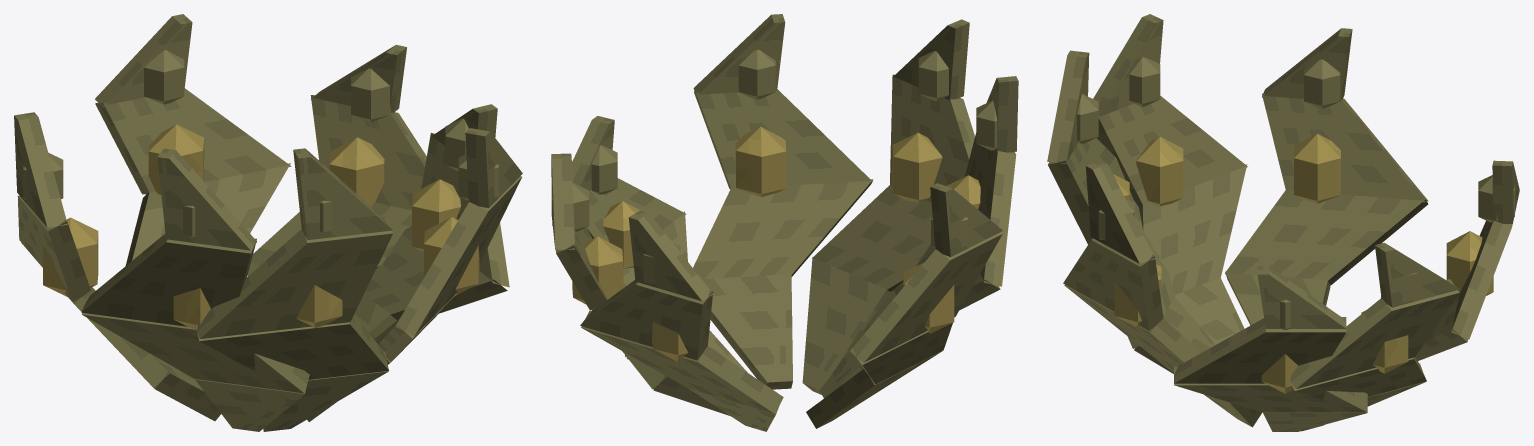
The model's file is f_bladderwrack.glb.
The picture shows the model from 3 angles, left to right: view 1: azimuth 30°, elevation 25°; view 2: azimuth 150°, elevation 25°; view 3: azimuth 270°, elevation 25°; orthographic projection. The views are drawn at different scales.
Visible parts, largest first — view 1: block_wavy-leaflike-frond (×25), block_air-bladder (×7), block_air-bladder-tip (×5); view 2: block_wavy-leaflike-frond (×27), block_air-bladder (×7), block_air-bladder-tip (×5); view 3: block_wavy-leaflike-frond (×26), block_air-bladder (×6), block_air-bladder-tip (×5).
Part boxes in pixels (x1,y1,x2,y2): block_wavy-leaflike-frond (×25): [14, 14, 522, 431]; block_air-bladder (×7): [43, 124, 479, 329]; block_air-bladder-tip (×5): [23, 50, 498, 200]; block_wavy-leaflike-frond (×27): [551, 14, 1018, 431]; block_air-bladder (×7): [572, 126, 980, 361]; block_air-bladder-tip (×5): [552, 49, 997, 231]; block_wavy-leaflike-frond (×26): [1047, 14, 1519, 431]; block_air-bladder (×6): [1114, 133, 1493, 393]; block_air-bladder-tip (×5): [1077, 57, 1514, 302].
Size of the model in its own units: 0.4058 by 0.3082 by 0.4077.
Materials: 1 (1 with a texture image).
